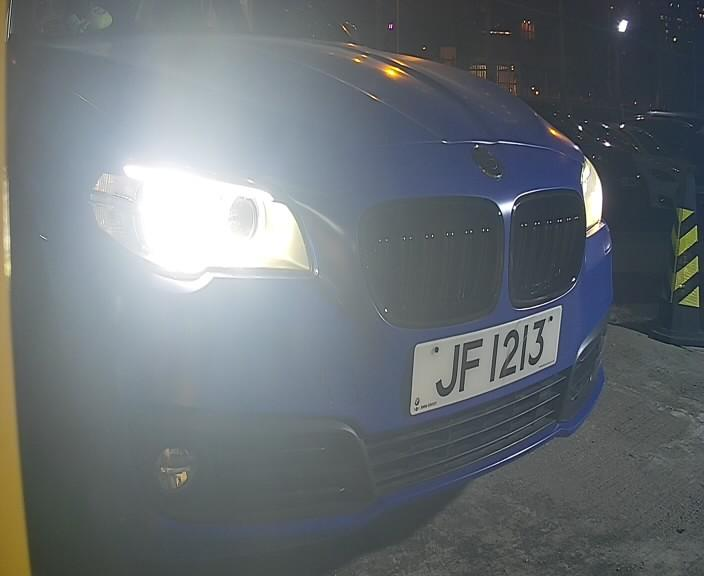License Plate: (394, 297, 571, 436)
